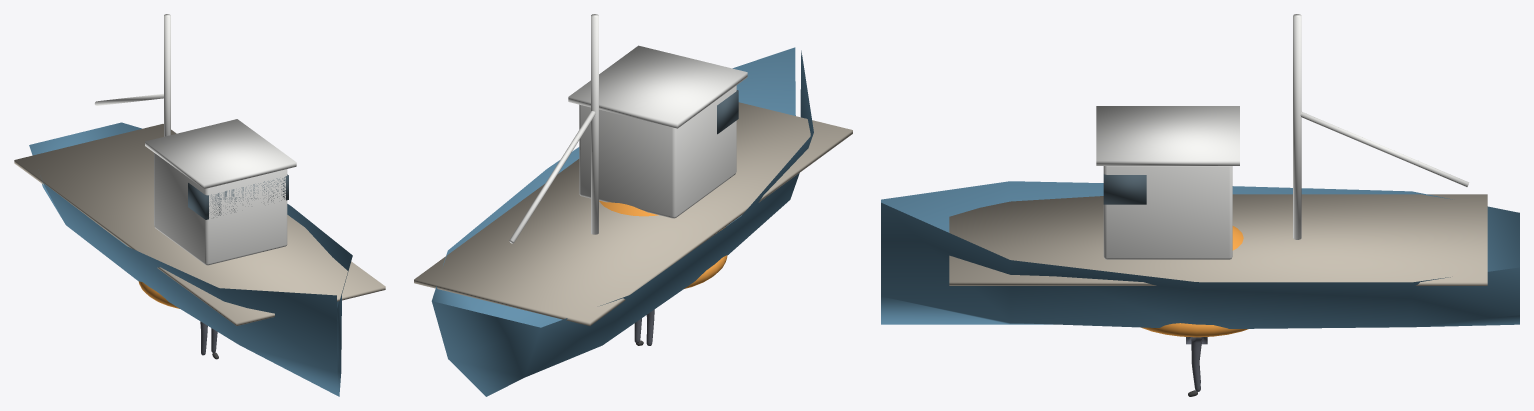
File: people.glb
3 views of the same model, side by side, from view 1: azimuth 30°, elevation 25°; view 2: azimuth 150°, elevation 25°; view 3: azimuth 270°, elevation 25° (orthographic). The views are drawn at different scales.
Parts seen in each view (by area): view 1: boat, pose_swim; view 2: boat, liferaft, pose_swim; view 3: boat, liferaft, pose_swim.
Part boxes in pixels (left/top/right/bottom): boat: left=14, top=14, right=385, bottom=396; pose_swim: left=200, top=321, right=218, bottom=359; boat: left=414, top=14, right=852, bottom=396; liferaft: left=599, top=200, right=727, bottom=288; pose_swim: left=634, top=309, right=654, bottom=345; boat: left=881, top=14, right=1519, bottom=328; liferaft: left=1140, top=226, right=1248, bottom=337; pose_swim: left=1186, top=337, right=1207, bottom=396.
Bounding box in the file's own units: 3.2 × 5.81 × 8.9.
